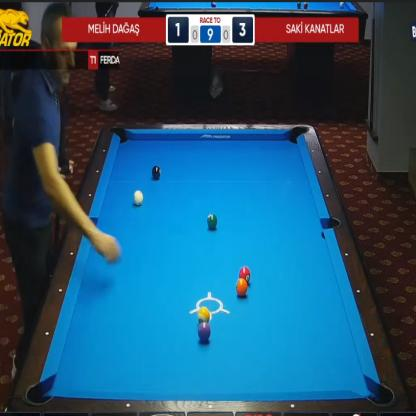Ball: (198, 322, 211, 342), (236, 278, 248, 296), (206, 213, 218, 230), (198, 307, 210, 323), (239, 266, 250, 282), (133, 189, 143, 206), (152, 166, 160, 179)
